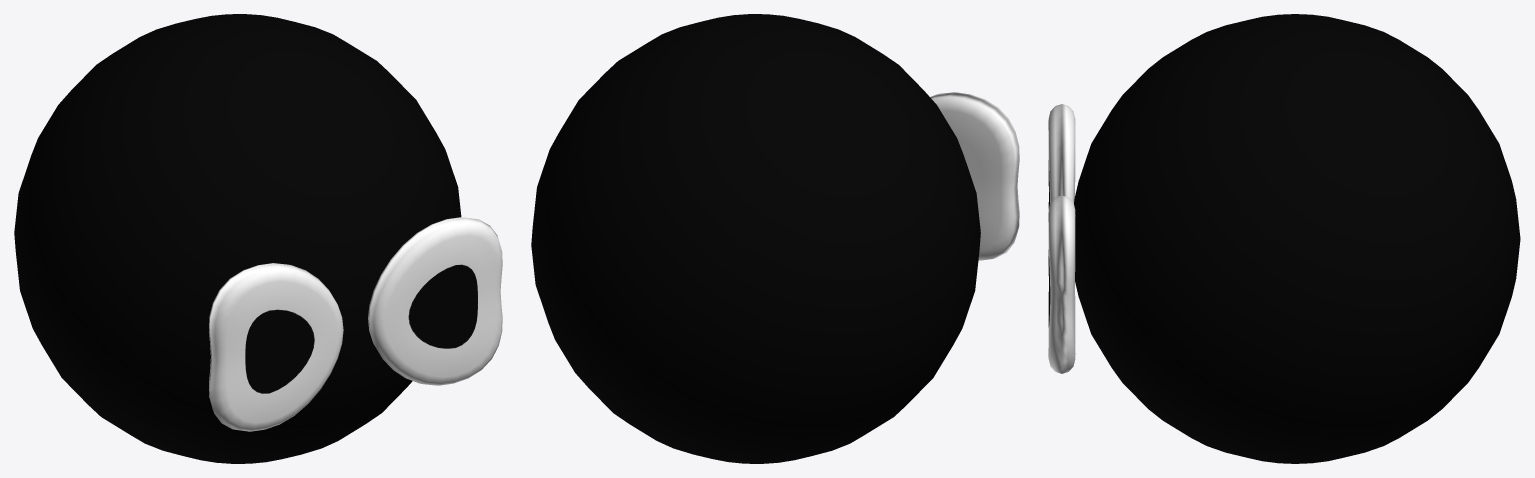
Rendered from sprite.fbx.
3 renders of one model, left to right at view 1: azimuth 30°, elevation 25°; view 2: azimuth 150°, elevation 25°; view 3: azimuth 270°, elevation 25°, orthographic.
Parts seen in each view (by area): view 1: Sphere.5752; view 2: Sphere.5752; view 3: Sphere.5752.
Boxes of the visible parts, <box> form: Sphere.5752: <box>14,14,502,463</box>; Sphere.5752: <box>531,14,1019,463</box>; Sphere.5752: <box>1048,14,1520,463</box>.
Size of the model in its own units: 200 by 200 by 210.
